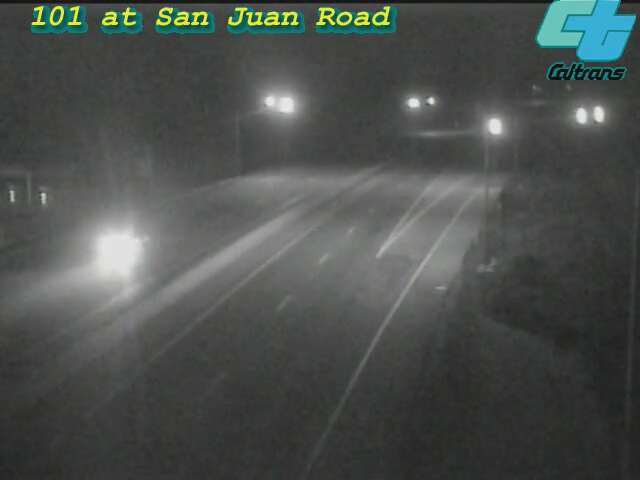vehicle: (78, 212, 158, 292), (469, 101, 519, 151), (554, 91, 604, 141), (569, 90, 619, 140)
